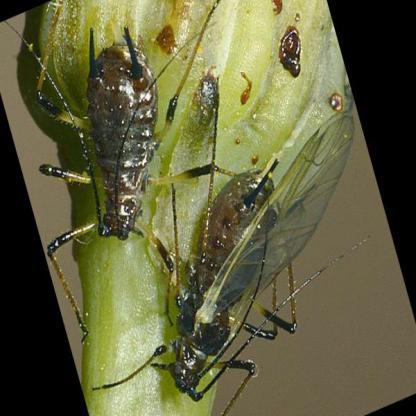uroleucon compositae: (153, 117, 352, 394), (38, 25, 213, 270)
